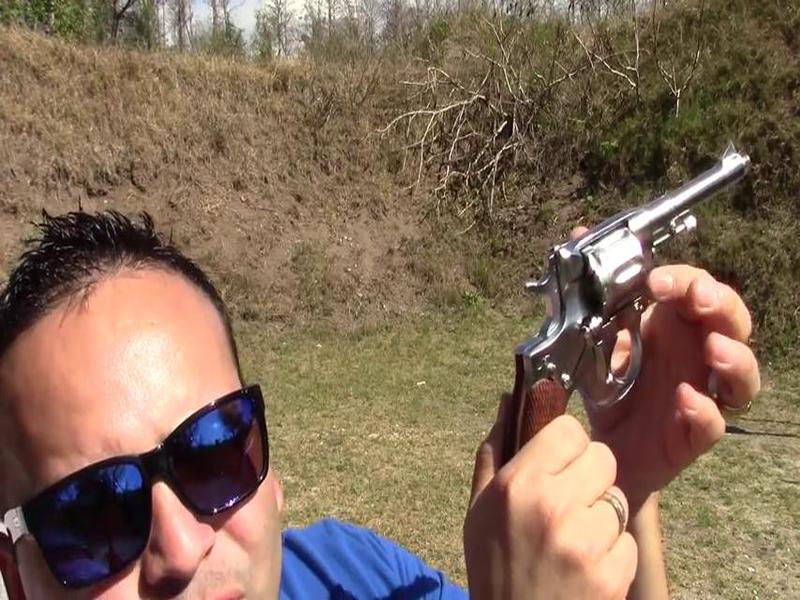Revolver: (501, 135, 760, 471)
